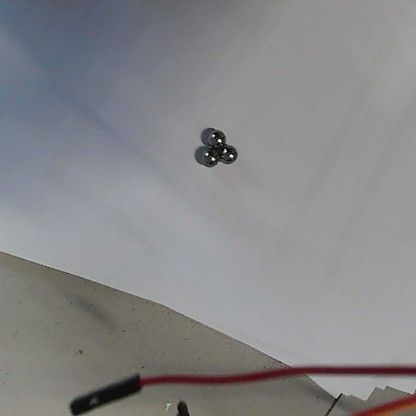ironball: (206, 126, 227, 150), (217, 142, 238, 165), (198, 146, 218, 170)
